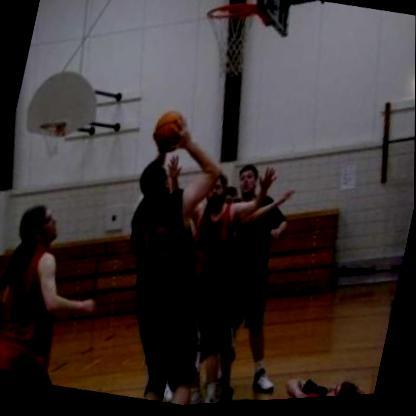basketball: (147, 107, 194, 161)
